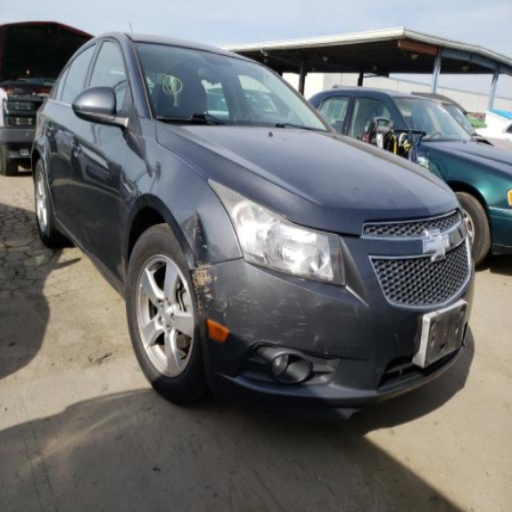dent: (179, 210, 228, 270)
rust: (191, 261, 213, 320), (118, 255, 128, 290)
scratch: (216, 288, 307, 340), (324, 346, 336, 372), (313, 335, 321, 347)
